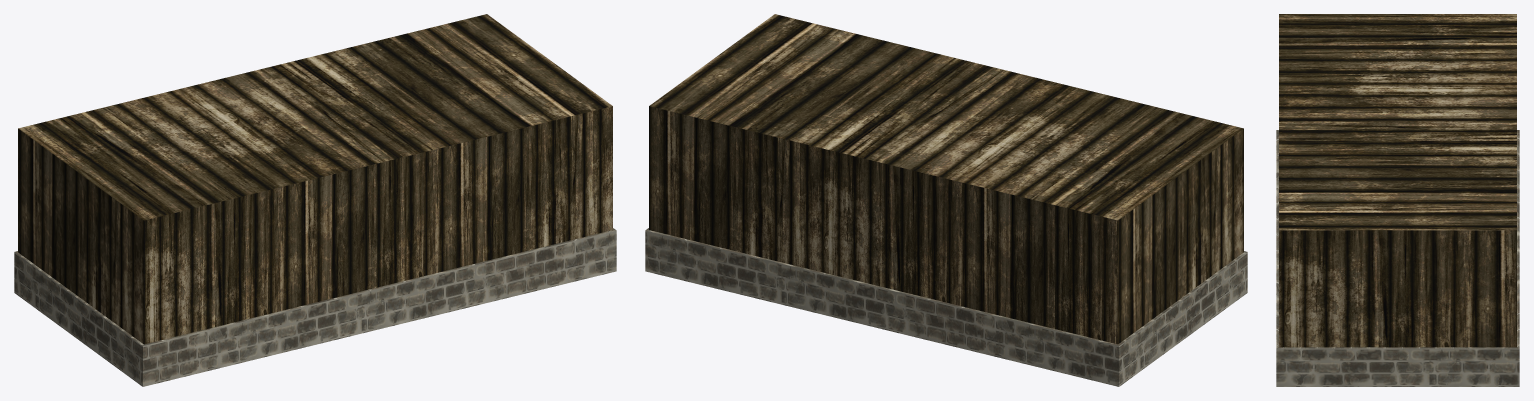
The model's file is building-shape-2.glb.
3 views of the same model, side by side, from view 1: azimuth 30°, elevation 25°; view 2: azimuth 150°, elevation 25°; view 3: azimuth 270°, elevation 25° (orthographic). The views are drawn at different scales.
Visible parts, largest first — view 1: Building_Shape_2; view 2: Building_Shape_2; view 3: Building_Shape_2.
Boxes of the visible parts, left/top/right/bottom form: Building_Shape_2: left=14, top=14, right=616, bottom=386; Building_Shape_2: left=645, top=14, right=1247, bottom=386; Building_Shape_2: left=1276, top=14, right=1519, bottom=386.
Size of the model in its own units: 9.06 by 3.01 by 4.26.
Materials: 1 (1 with a texture image).
